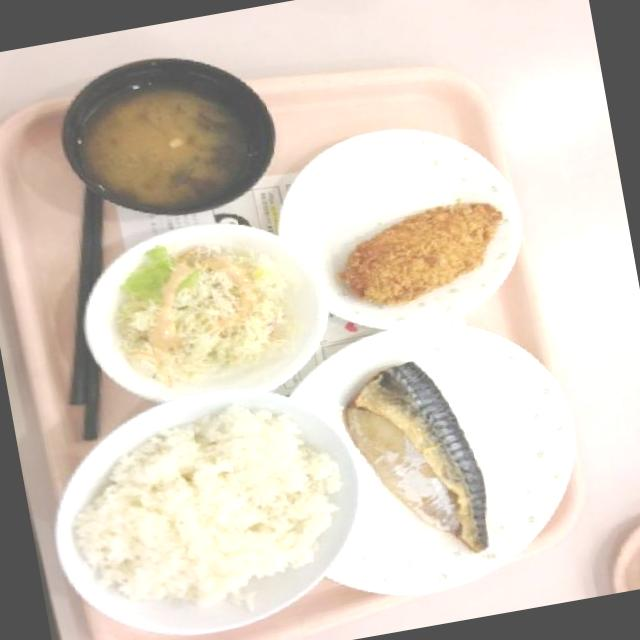Hamburger: (64, 388, 351, 630)
